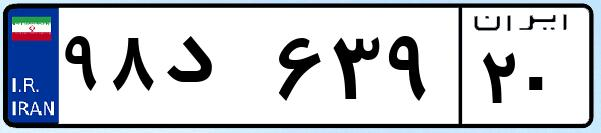0: (525, 38, 570, 115)
2: (475, 38, 525, 113)
3: (330, 28, 385, 110)
6: (270, 28, 330, 110)
8: (110, 28, 158, 98)
9: (385, 28, 445, 110), (57, 26, 110, 100)
د: (158, 20, 270, 120)
